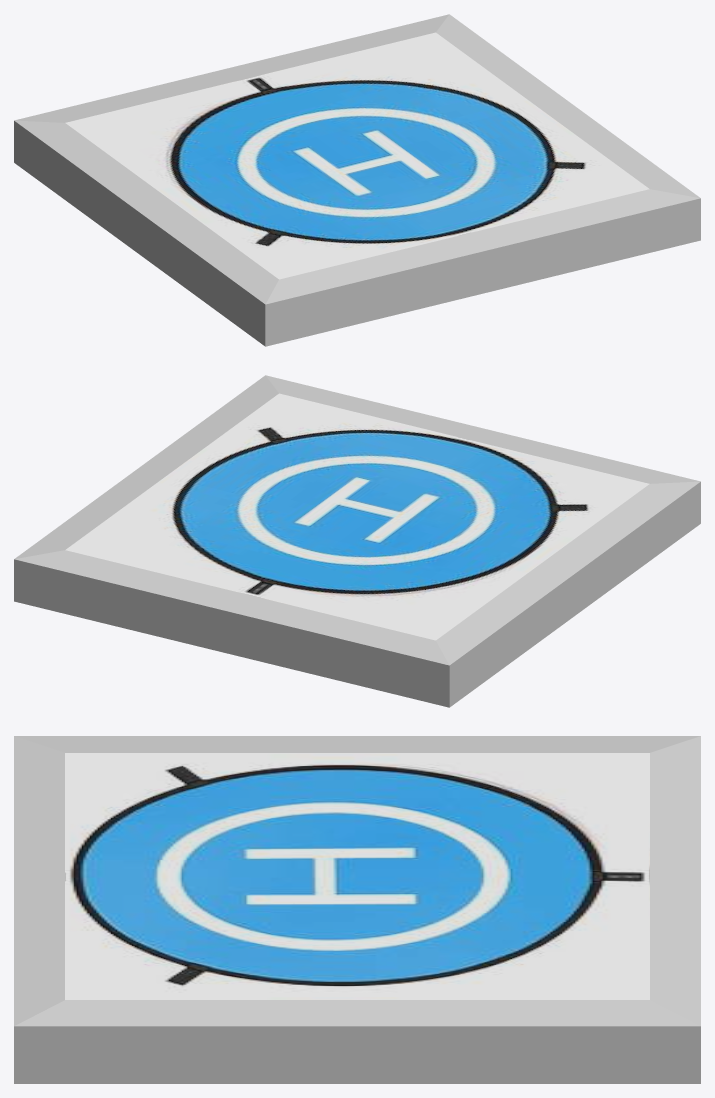
File: landing_pad.dae
3 views of the same model, one above another, from view 1: azimuth 30°, elevation 25°; view 2: azimuth 150°, elevation 25°; view 3: azimuth 270°, elevation 25° (orthographic). The views are drawn at different scales.
Visible parts, largest first — view 1: Cube; view 2: Cube; view 3: Cube.
Boxes of the visible parts, x1,y1,x2,y2 form: Cube: (14, 14, 700, 346); Cube: (14, 375, 700, 707); Cube: (14, 736, 700, 1083).
Bounding box in the file's own units: 2 × 2 × 0.2.
2 materials, 1 textured.
